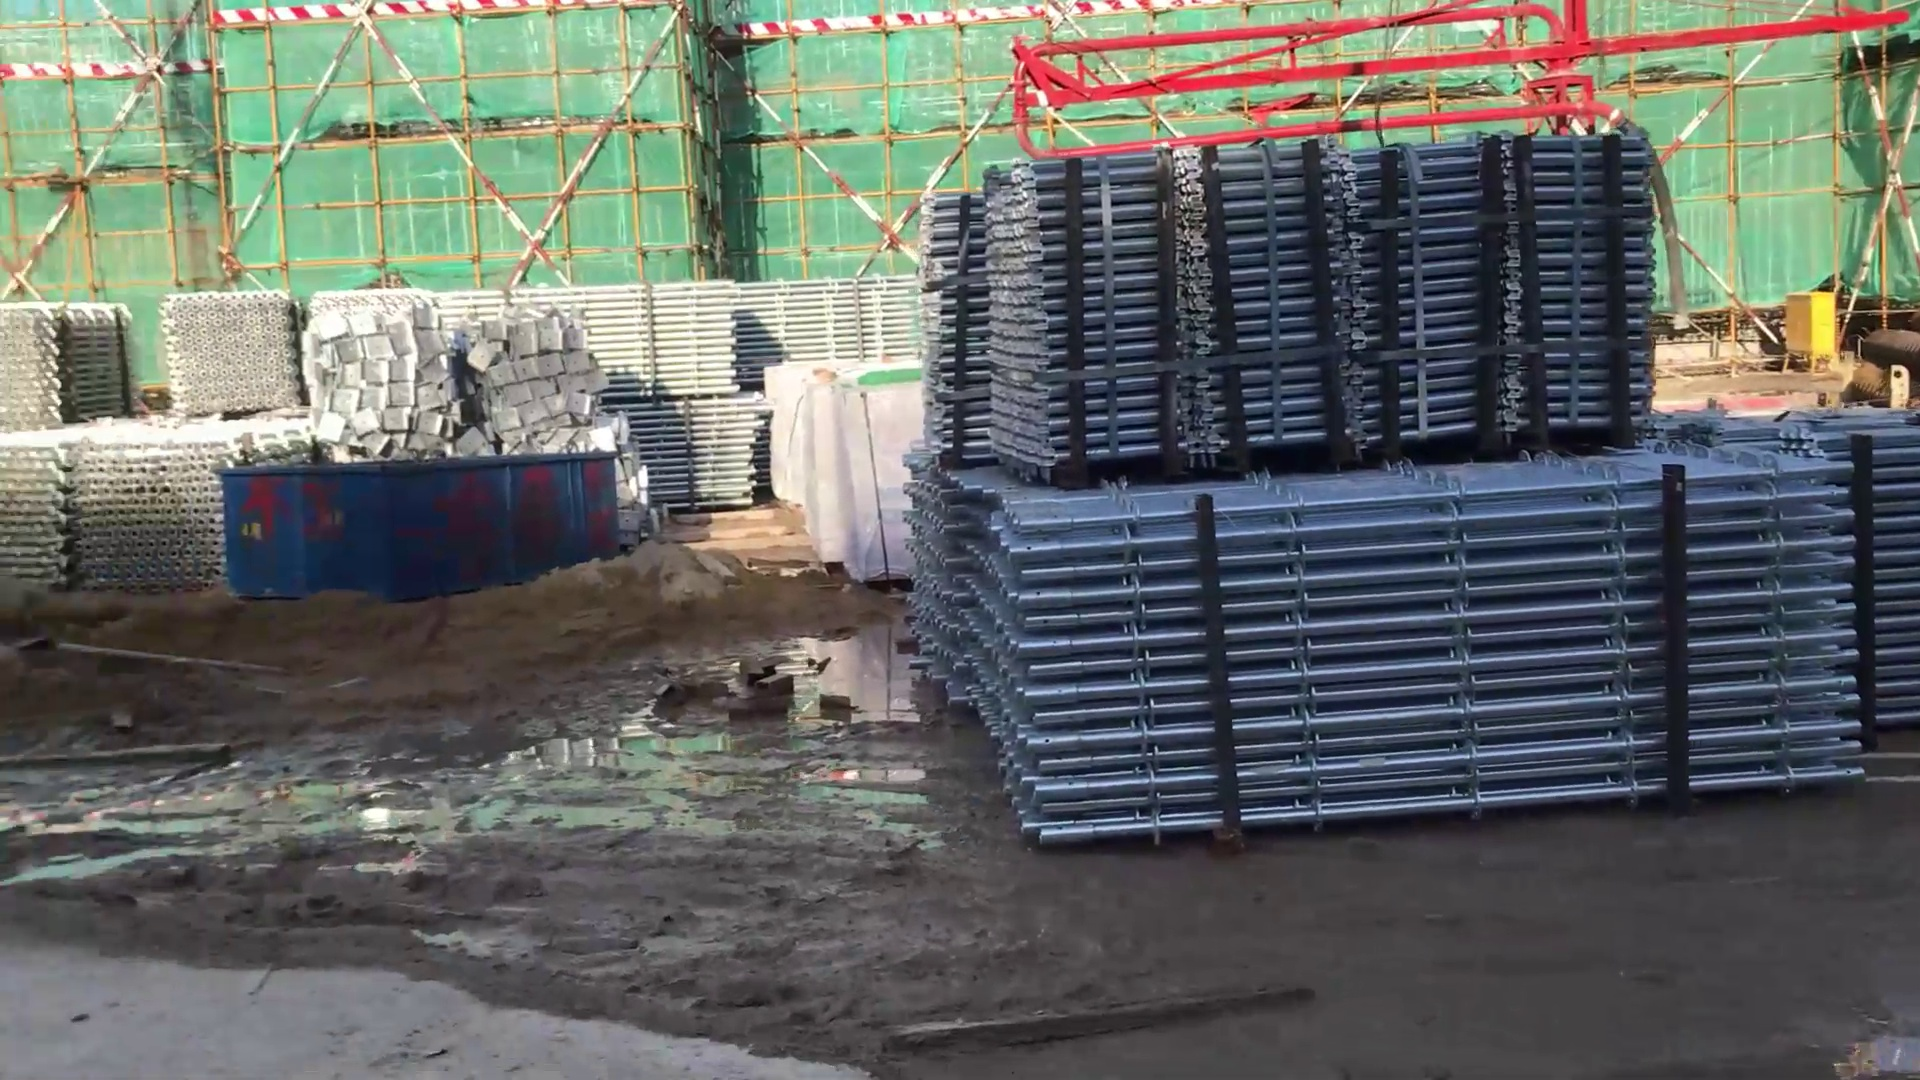ebox: (1763, 280, 1854, 385)
hopper: (225, 446, 601, 608)
scaffold: (913, 452, 1870, 783), (984, 167, 1701, 495), (55, 438, 218, 576), (149, 287, 295, 425), (575, 280, 735, 390), (615, 386, 766, 500), (1, 309, 138, 430), (735, 276, 903, 371)
